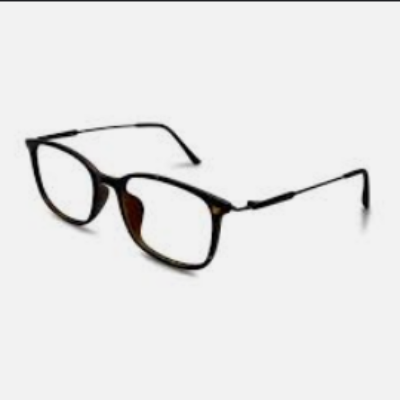glasses: (24, 119, 376, 281)
